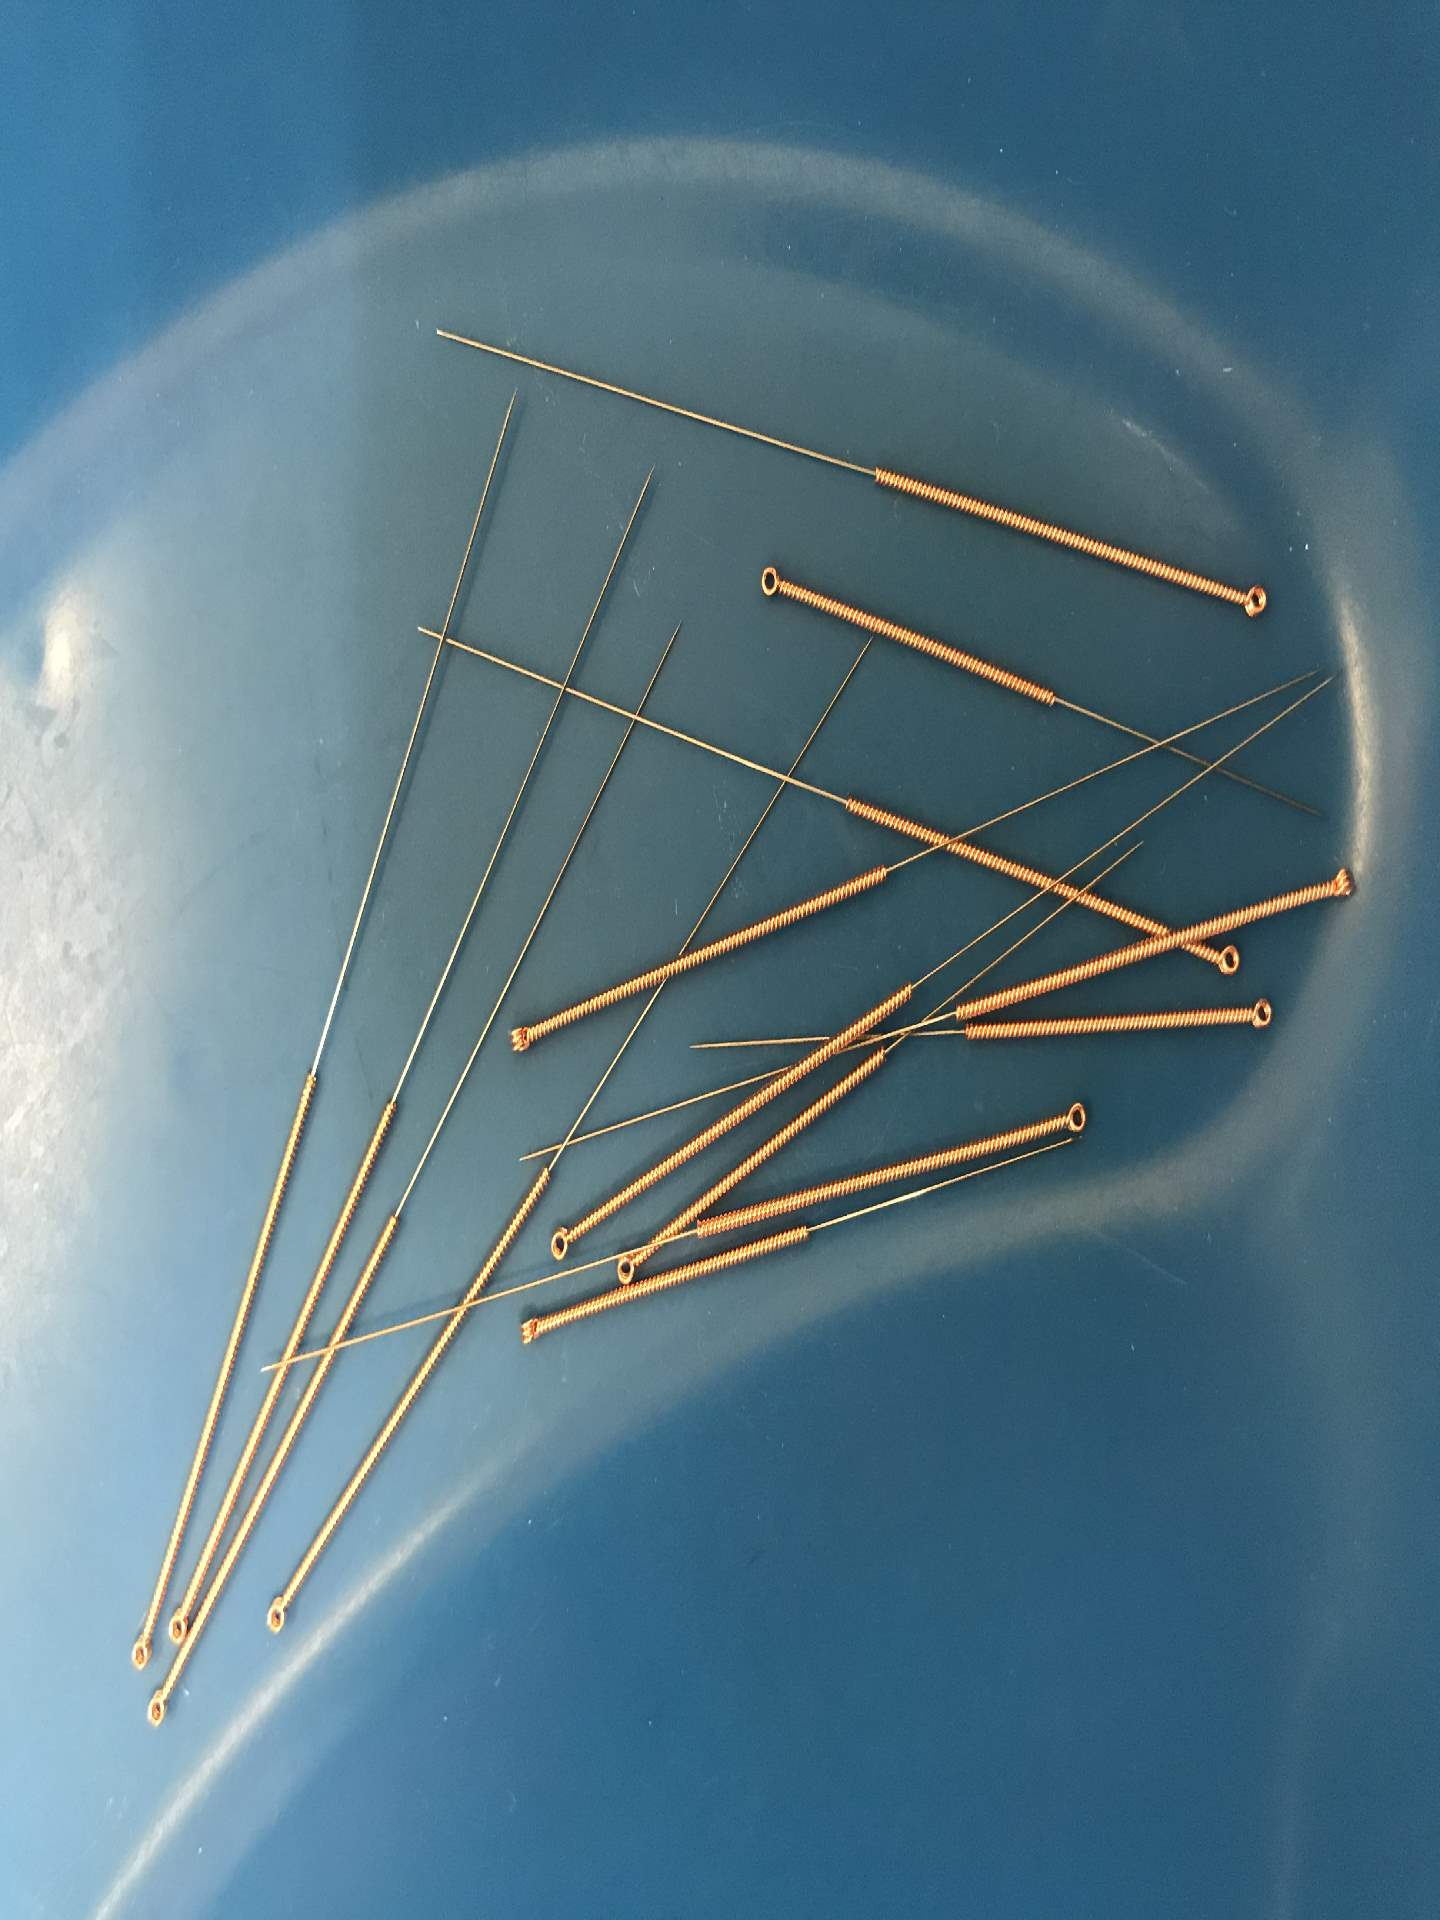needle: (135, 1677, 180, 1736), (1225, 574, 1274, 627), (750, 556, 796, 612), (256, 1584, 301, 1639), (1234, 989, 1280, 1039), (501, 1013, 545, 1064), (511, 1303, 554, 1356), (1050, 1095, 1095, 1143), (1319, 859, 1361, 910), (121, 1621, 160, 1674), (543, 1212, 582, 1262), (162, 1592, 197, 1648), (1207, 937, 1246, 983), (611, 1243, 643, 1288)
